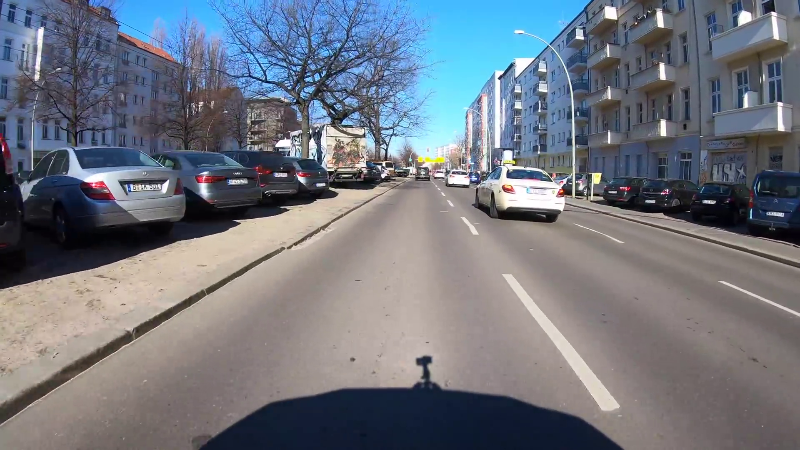Plate: (125, 179, 163, 192), (526, 185, 546, 195)
